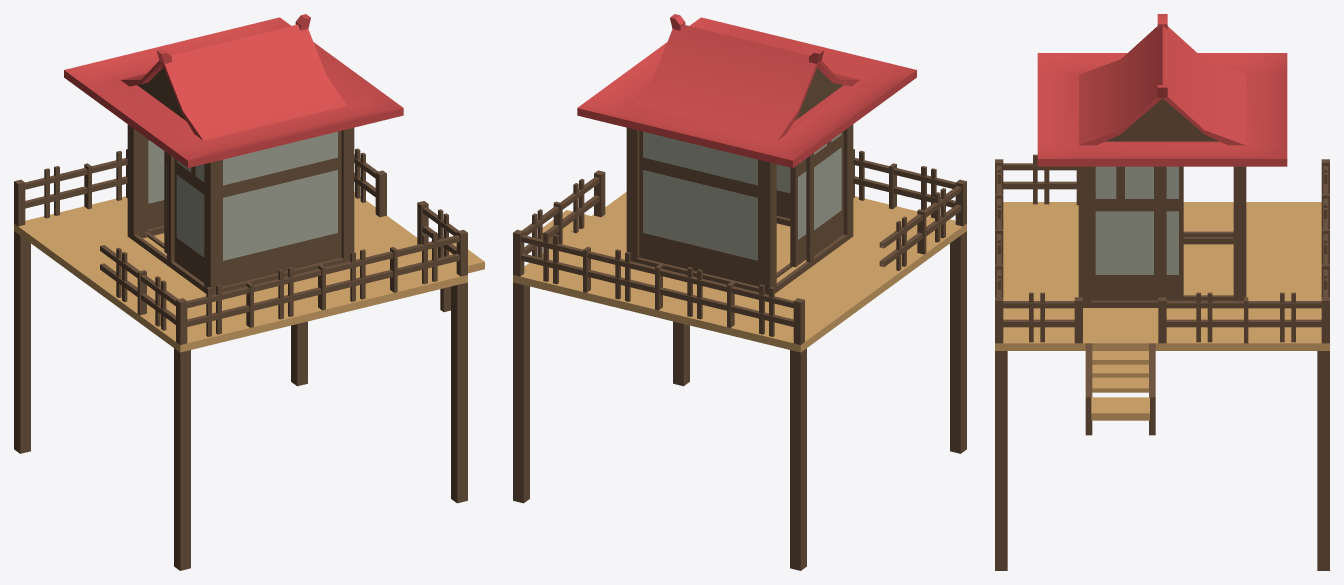
Rendered from HouseSmall.fbx.
3 views of the same model, side by side, from view 1: azimuth 30°, elevation 25°; view 2: azimuth 150°, elevation 25°; view 3: azimuth 270°, elevation 25° (orthographic).
Visible parts, largest first — view 1: House; view 2: House, Door; view 3: House, Door.
Boxes of the visible parts, x1,y1,x2,y2 form: House: (14,14,484,570); House: (513,14,966,570); Door: (790,159,806,267); House: (995,14,1329,570); Door: (1166,166,1183,300).
Size of the model in its own units: 490 by 588 by 400.
